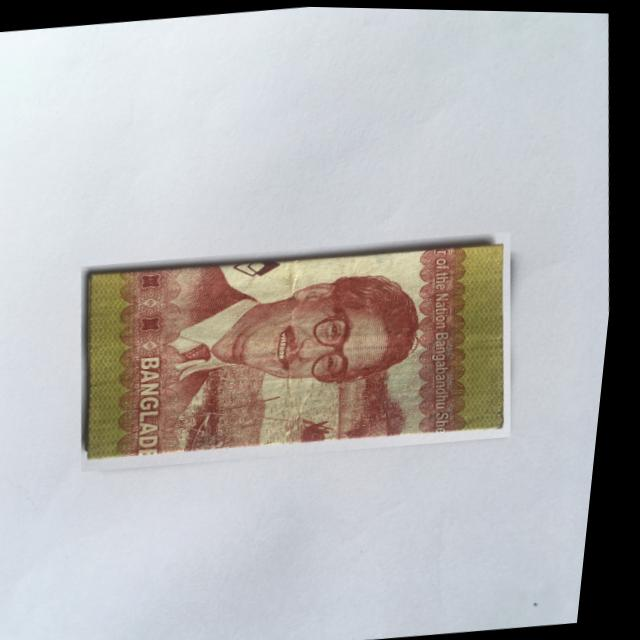Taka: (70, 221, 536, 479)
